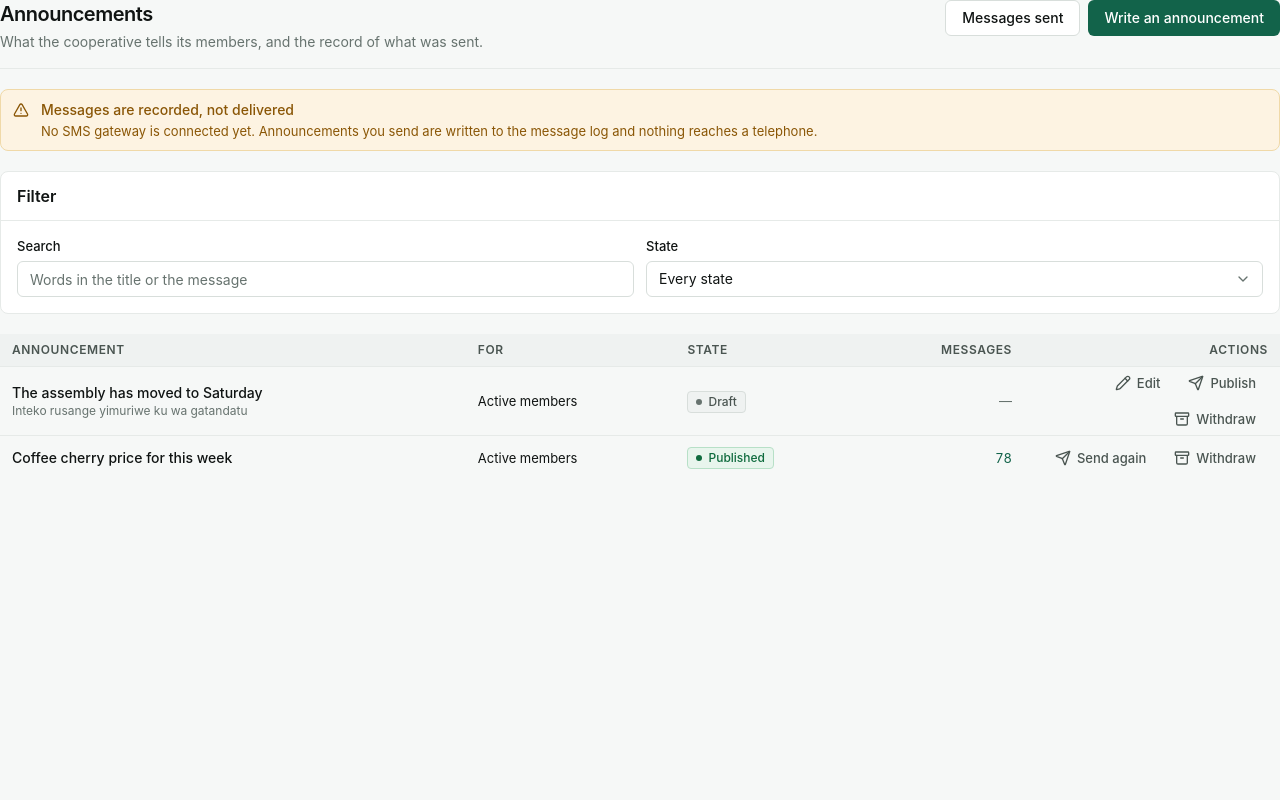
Scenario: the publish dialog › reports a partial send instead of closing on it
Expected: the text "The assembly has moved to Saturday" is shown, [12,384,263,401]
Click the button "Publish".
click(1222, 383)  # box [1176,367,1268,399]
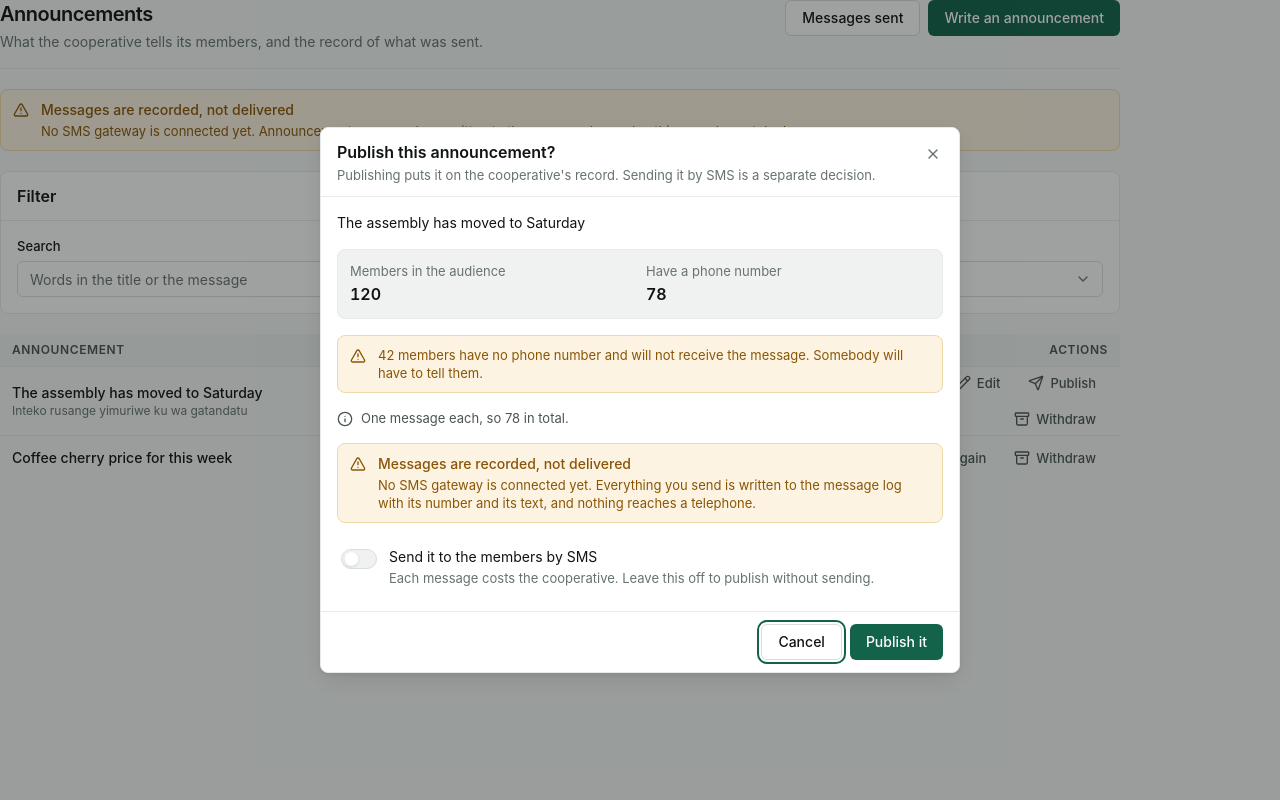
Expected: the text "120" is shown, [350,284,381,304]
Click the switch labelled "Send it to the members by SMS".
click(640, 567)  # box [337,539,943,595]
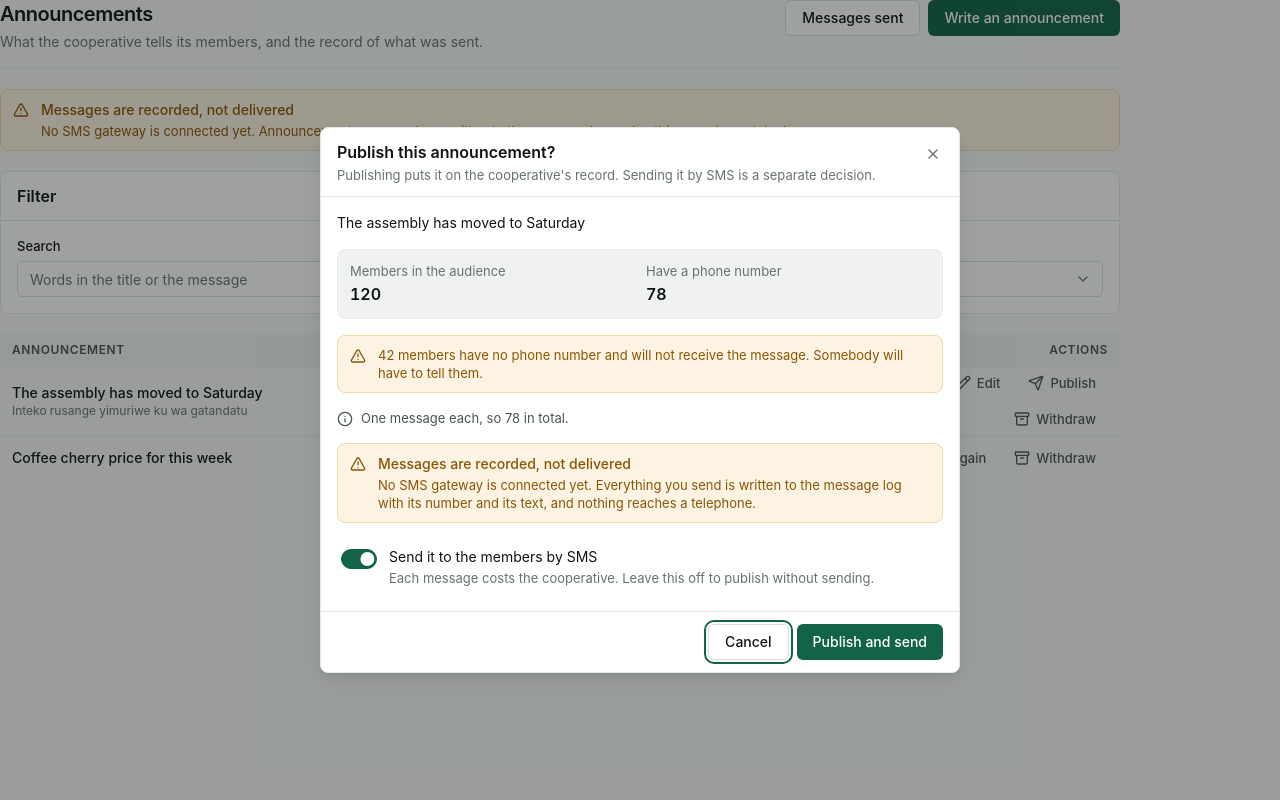
Click the button "Publish and send".
click(870, 642)  # box [797,624,943,660]
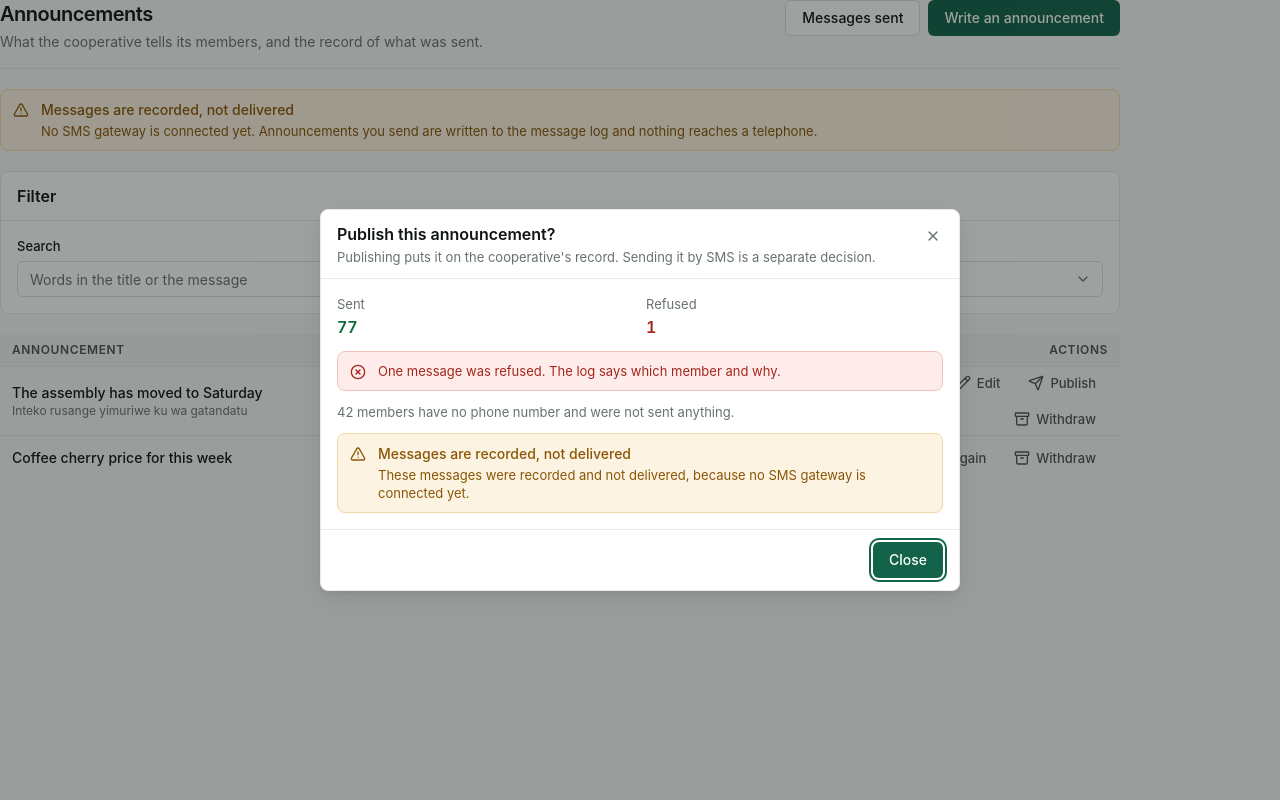
Expected: the text "77" is shown, [337,317,358,337]
Expected: the text "One message was refused. The log says which member and why." is shown, [378,363,781,379]
Expected: the text "42 members have no phone number and were not sent anything." is shown, [337,404,734,420]
